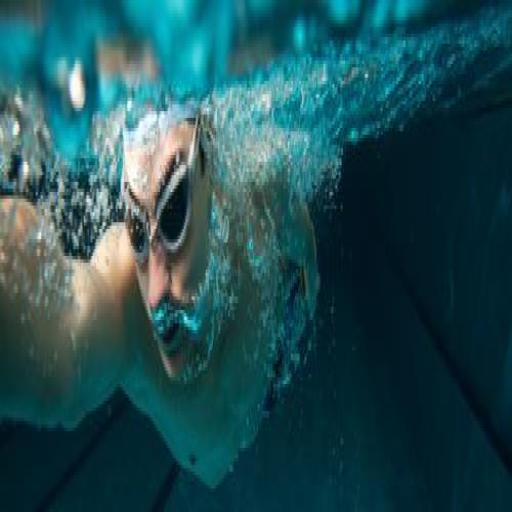swimming: (0, 71, 322, 495)
